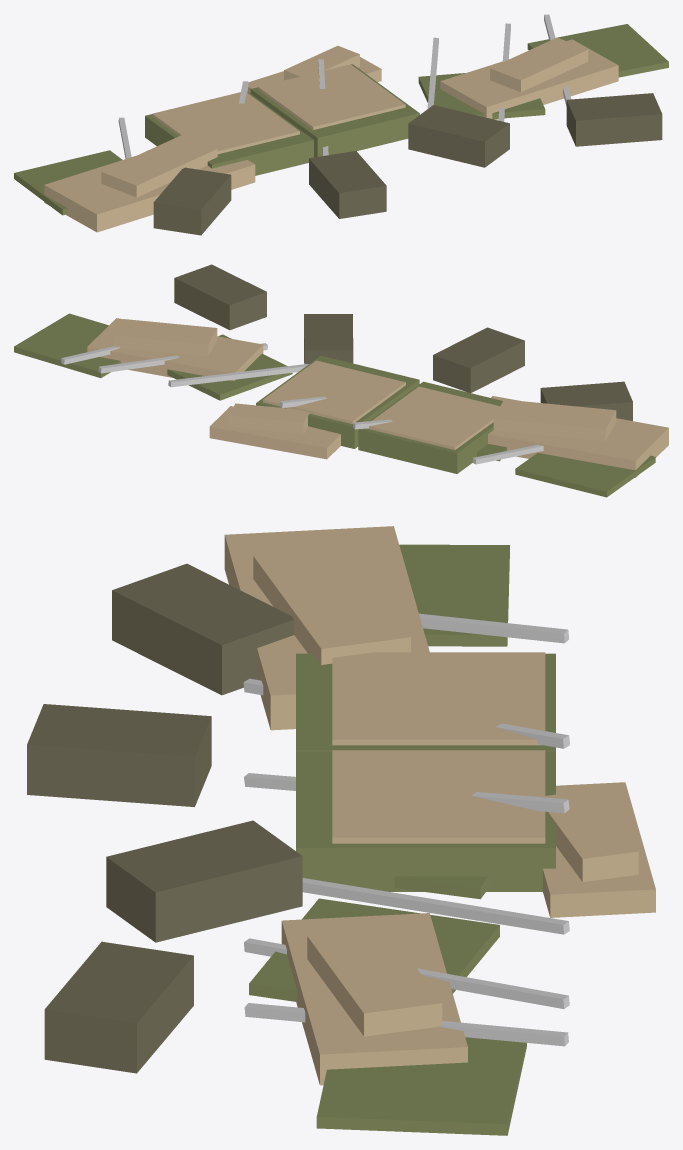
The model's file is SM_HescoCorto3_v3_RemateSacos_e3_Brecha_LOD0.fbx.
The picture shows the model from 3 angles, top to bottom: view 1: azimuth 30°, elevation 25°; view 2: azimuth 150°, elevation 25°; view 3: azimuth 270°, elevation 25°; orthographic projection. The views are drawn at different scales.
Visible parts, largest first — view 1: SM_hesco_piezas_v95_LOD0; view 2: SM_hesco_piezas_v95_LOD0; view 3: SM_hesco_piezas_v95_LOD0.
Boxes of the visible parts, x1,y1,x2,y2 form: SM_hesco_piezas_v95_LOD0: (14,14,668,235); SM_hesco_piezas_v95_LOD0: (14,264,668,497); SM_hesco_piezas_v95_LOD0: (27,526,655,1135).
Bounding box in the file's own units: 6.44 × 0.3263 × 2.95.
